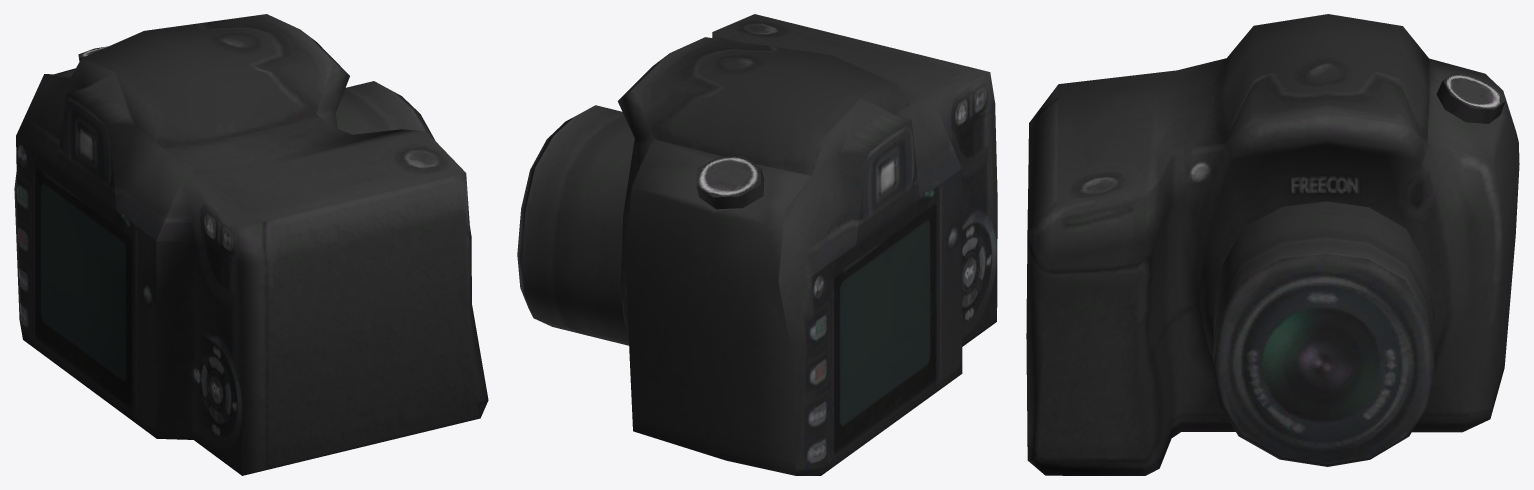
The model's file is Camera.obj.
3 renders of one model, left to right at view 1: azimuth 30°, elevation 25°; view 2: azimuth 150°, elevation 25°; view 3: azimuth 270°, elevation 25°, orthographic. The views are drawn at different scales.
Parts seen in each view (by area): view 1: Camera.001; view 2: Camera.001; view 3: Camera.001.
Part boxes in pixels (box(x1,y1,x2,y2)): Camera.001: box(14, 14, 488, 475); Camera.001: box(517, 14, 997, 475); Camera.001: box(1026, 14, 1519, 475).
Size of the model in its own units: 0.1165 by 0.1133 by 0.1454.
Materials: 1 (1 with a texture image).
